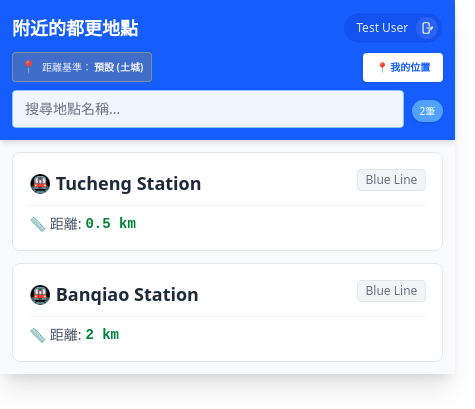
Test: Sidebar Integration › filters stop list based on search query
Expected: the heading "🚇 Tucheng Station" is shown, [29,169,202,197]
Expected: the heading "🚇 Banqiao Station" is shown, [29,280,199,308]
Type "Tucheng"
Type "Tucheng" into the field with placeholder "搜尋地點名稱..." at {"x": 208, "y": 109}, box [12,90,404,128]
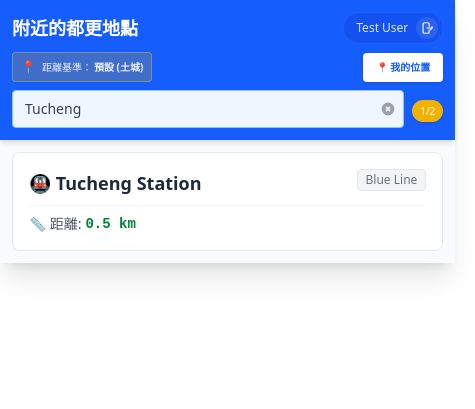
Expected: the heading "🚇 Tucheng Station" is shown, [29,169,202,197]
Expected: the heading "🚇 Banqiao Station" is gone
Expected: the text "1/2" is shown, [412,100,443,122]
